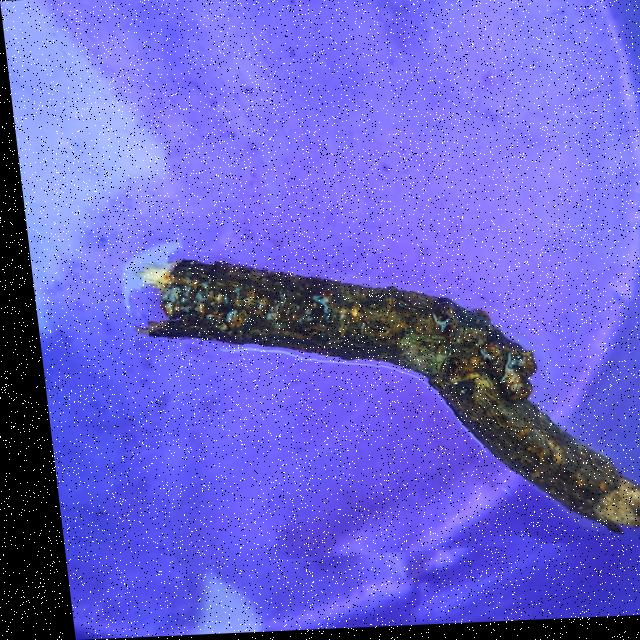litter: (133, 238, 640, 566)
